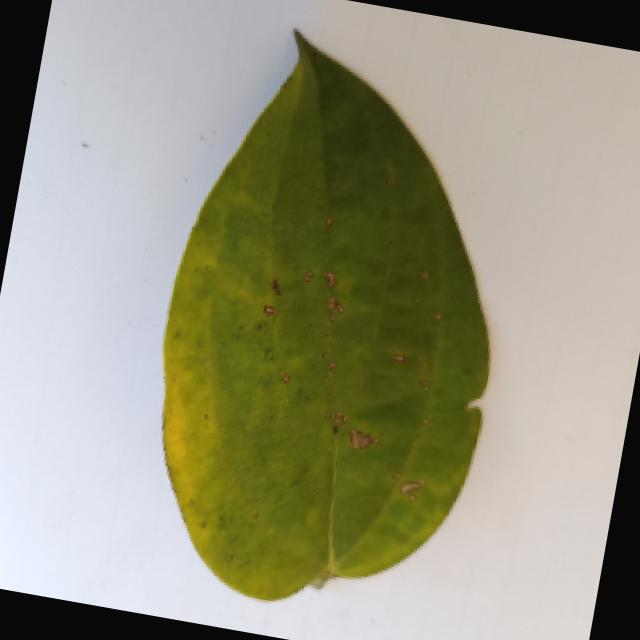slow-decline: (120, 20, 538, 633)
